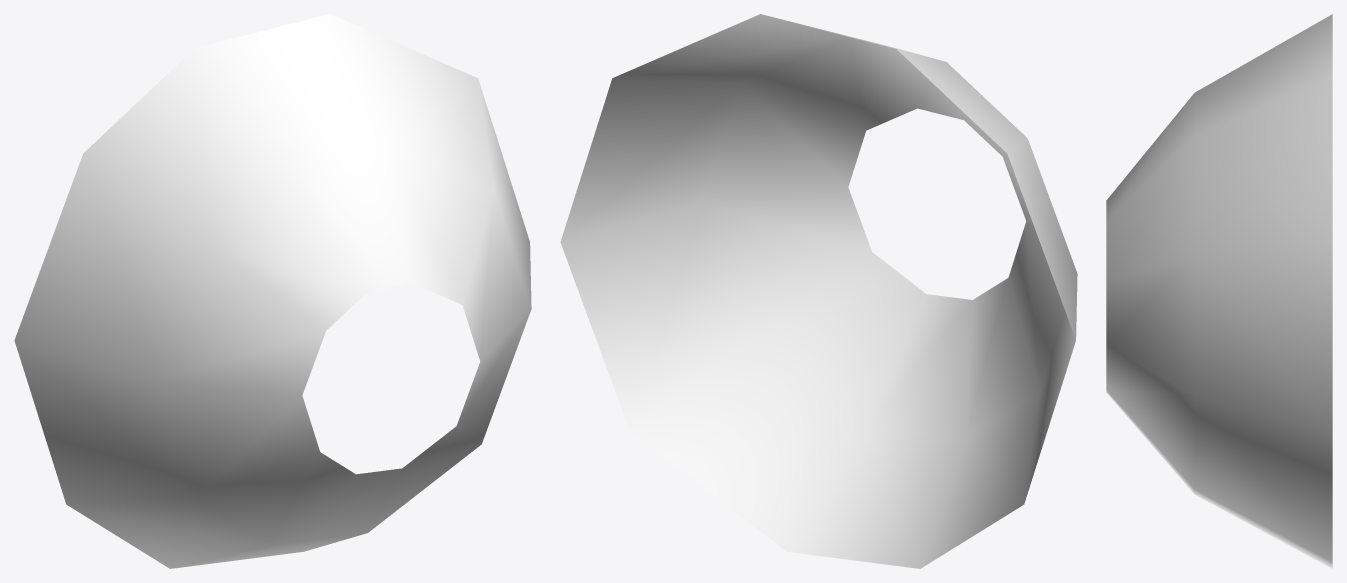
The model's file is OndeTir.FBX.
3 renders of one model, left to right at view 1: azimuth 30°, elevation 25°; view 2: azimuth 150°, elevation 25°; view 3: azimuth 270°, elevation 25°, orthographic. The views are drawn at different scales.
Parts seen in each view (by area): view 1: OndeTir; view 2: OndeTir; view 3: OndeTir.
Part boxes in pixels (x1,y1,x2,y2): OndeTir: [14, 14, 531, 568]; OndeTir: [560, 14, 1077, 568]; OndeTir: [1106, 14, 1332, 568].
Bounding box in the file's own units: 34.24 × 33.72 × 13.69.
Materials: 1 (1 with a texture image).
